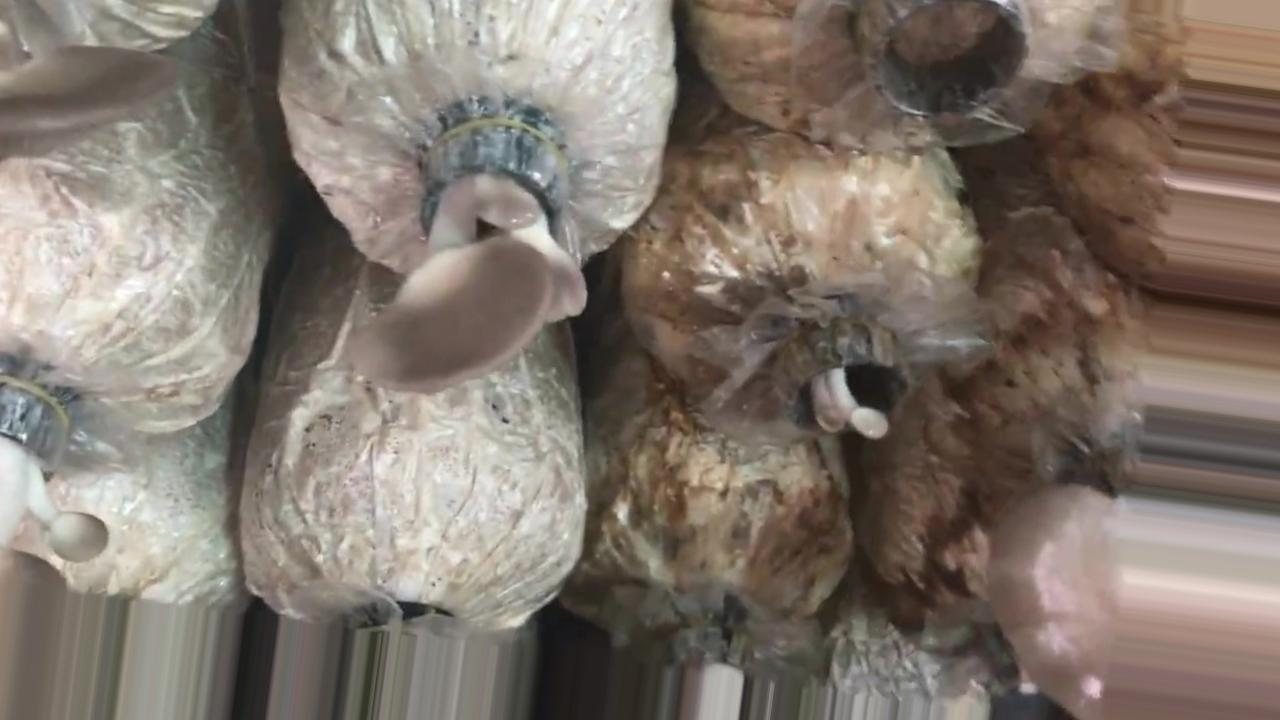nam: (352, 117, 586, 393), (1, 359, 113, 717), (1, 1, 178, 164), (795, 323, 899, 437)
